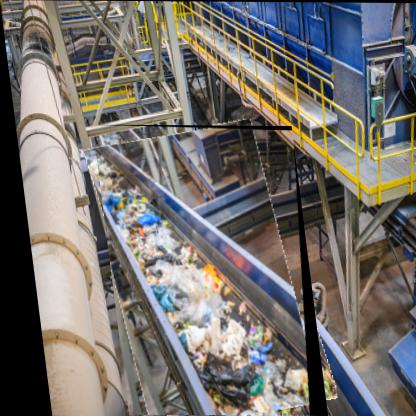Garbage: (90, 125, 320, 416)
